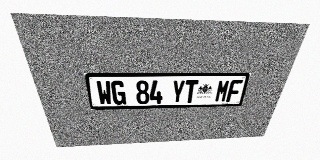4: (150, 80, 163, 104)
8: (136, 80, 149, 104)
F: (226, 80, 243, 102)
G: (110, 81, 126, 105)
M: (214, 80, 231, 102)
T: (183, 80, 199, 103)
W: (96, 81, 113, 105)
Y: (171, 80, 185, 103)
